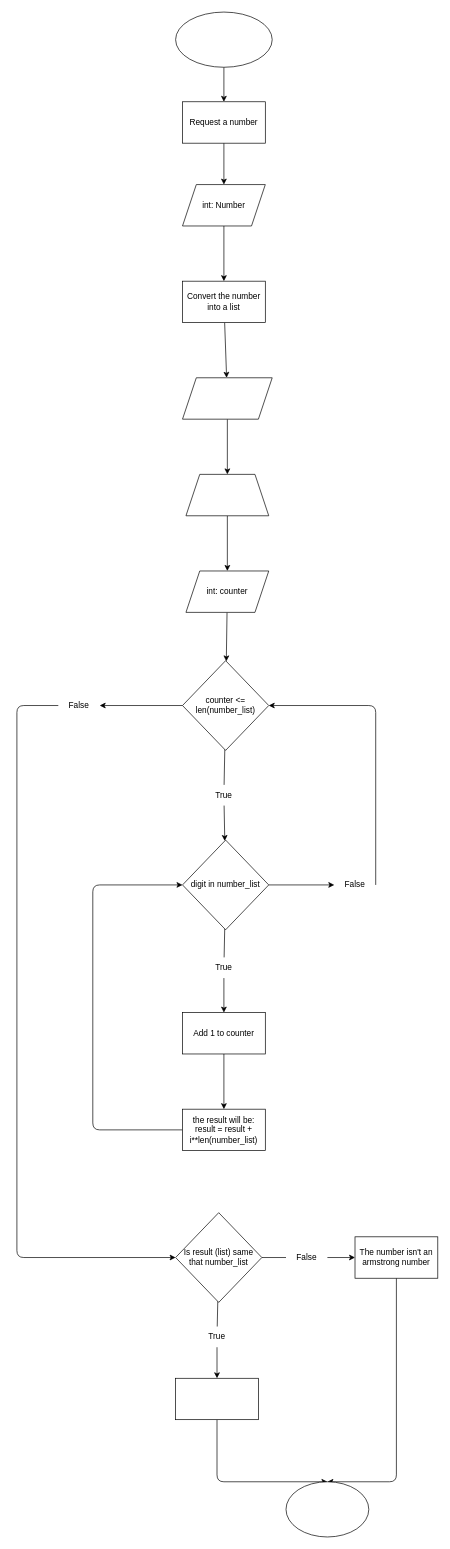
Image size: 450x1549. Some labels were removed from this diagram. Here are the shapes that lost their labels. From the top down, the centre of each, then its label:
At pixel 223 39: "Start".
At pixel 227 398: "list: number_list".
At pixel 227 495: "int: result".
At pixel 216 1399: "the number is an armstrong number".
At pixel 327 1509: "End".
